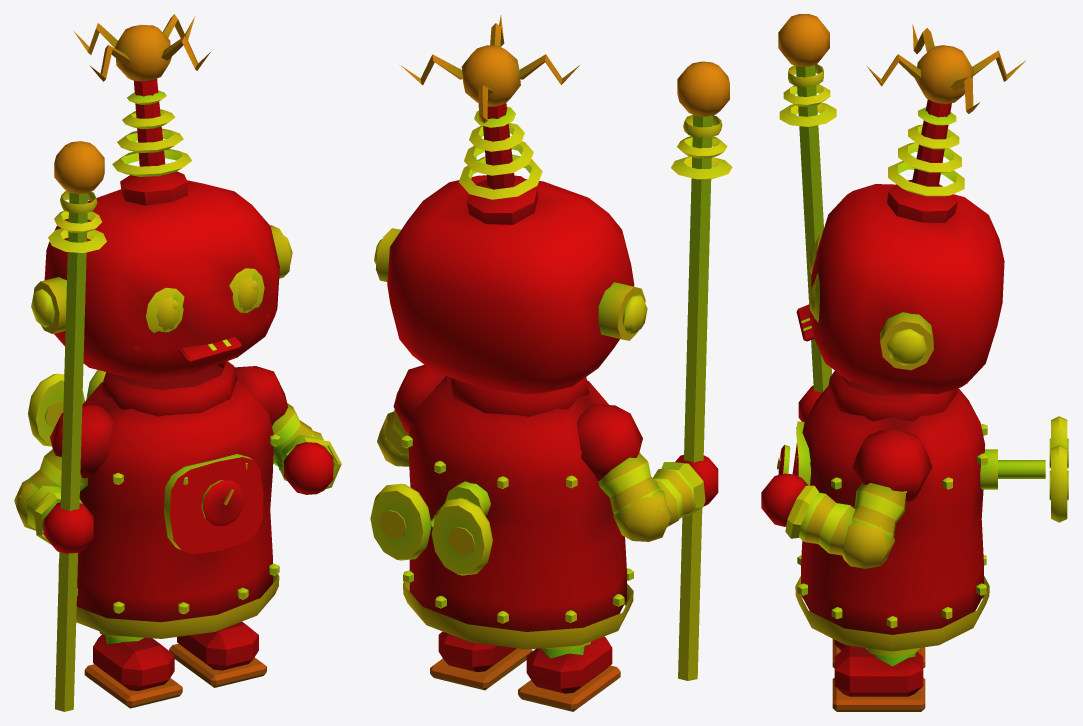
Rendered from RobotTesla.glb.
3 renders of one model, left to right at view 1: azimuth 30°, elevation 25°; view 2: azimuth 150°, elevation 25°; view 3: azimuth 270°, elevation 25°, orthographic. The views are drawn at different scales.
Parts seen in each view (by area): view 1: RobotTesla; view 2: RobotTesla; view 3: RobotTesla.
Boxes of the visible parts, <box> form: RobotTesla: <box>14,14,341,711</box>; RobotTesla: <box>370,15,732,711</box>; RobotTesla: <box>761,14,1068,711</box>.
Bounding box in the file's own units: 0.521 × 1.03 × 0.452.
